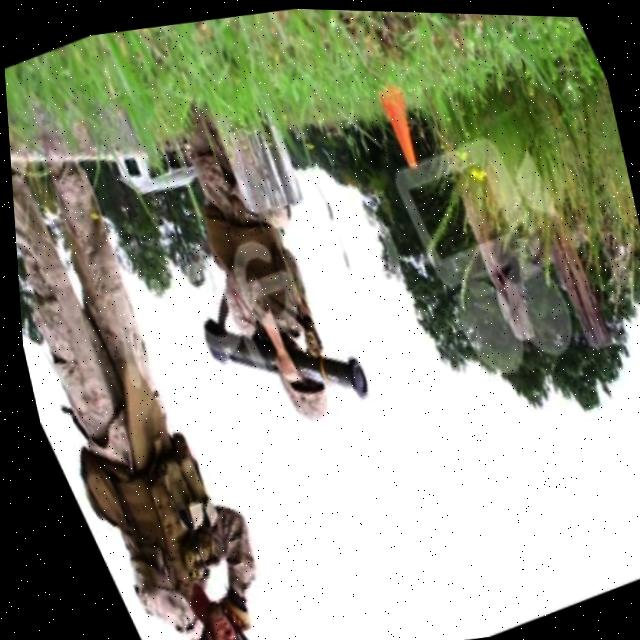rocket: (185, 270, 375, 447)
